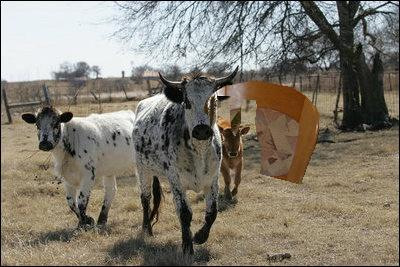tampered: (203, 81, 319, 184)
